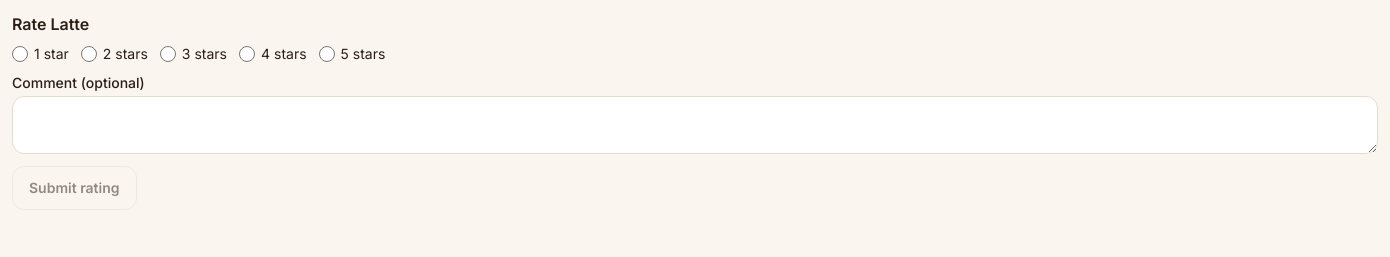
RatingForm › shows why it failed
The image size is (1390, 257).
Click the radio button labelled "5 stars". click: (327, 54)
box: [319,46,335,62]
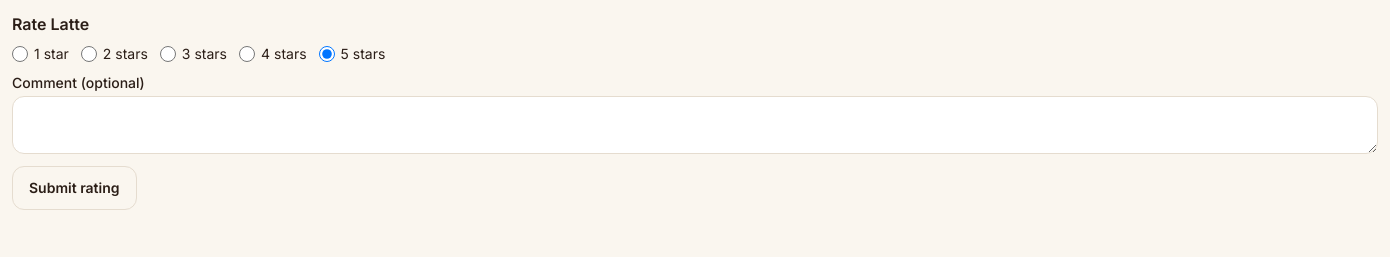
Click the button with aria-label "Submit rating for Latte". click: (74, 188)
box: [12,166,137,210]
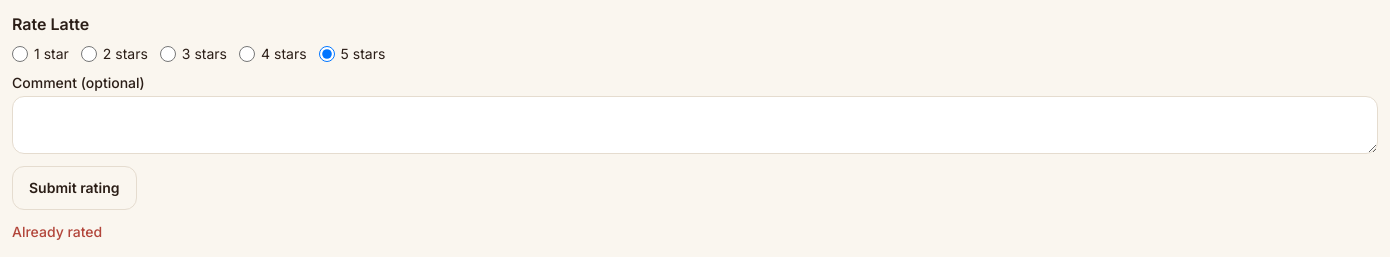
Expected: the message reads "Already rated", [12,223,102,240]
